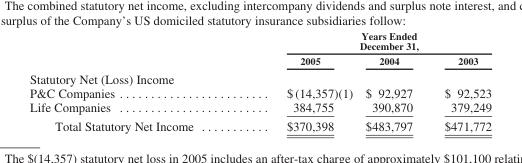table: (28, 29, 491, 132)
table column: (28, 29, 239, 132), (239, 29, 346, 132), (358, 29, 427, 132), (427, 29, 491, 132), (346, 29, 358, 132)
table column header: (28, 29, 491, 68)
table projected row header: (28, 68, 491, 85)
table row: (28, 29, 491, 52), (28, 68, 491, 85), (28, 115, 491, 132), (28, 52, 491, 68), (28, 99, 491, 115), (28, 85, 491, 99)
table spanning cell: (239, 29, 491, 52)
